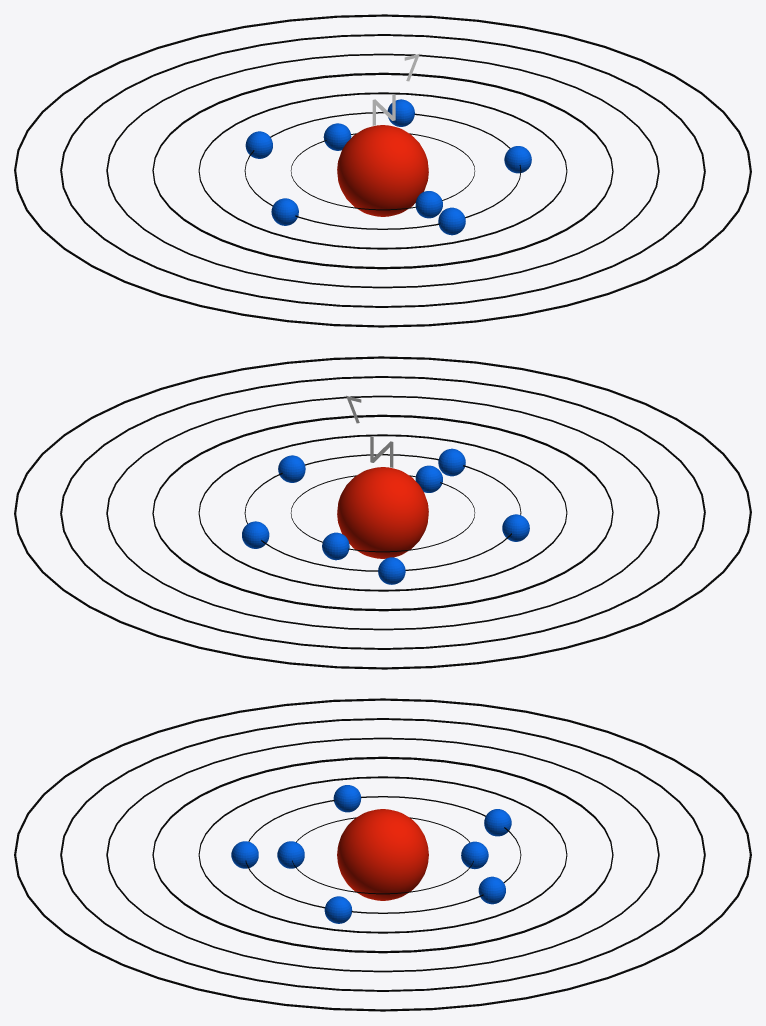
The picture shows the model from 3 angles, top to bottom: view 1: azimuth 30°, elevation 25°; view 2: azimuth 150°, elevation 25°; view 3: azimuth 270°, elevation 25°; orthographic projection.
Parts seen in each view (by area): view 1: Proton, n7, n6, N2, n5, n4, n3, N1, n2; view 2: Proton, n7, n6, N2, n5, n4, n3, N1, n2; view 3: Proton, n7, n6, N2, n5, n4, n3, N1, n2, n1.
Boxes of the visible parts, left/top/right/bottom form: Proton: left=337, top=125, right=428, bottom=216; n7: left=14, top=14, right=751, bottom=327; n6: left=60, top=34, right=705, bottom=307; N2: left=245, top=99, right=531, bottom=235; n5: left=106, top=53, right=659, bottom=288; n4: left=152, top=72, right=613, bottom=269; n3: left=198, top=92, right=567, bottom=249; N1: left=323, top=123, right=442, bottom=218; n2: left=244, top=112, right=521, bottom=229; Proton: left=337, top=467, right=428, bottom=558; n7: left=14, top=356, right=751, bottom=669; n6: left=60, top=376, right=705, bottom=649; N2: left=242, top=448, right=529, bottom=584; n5: left=106, top=395, right=659, bottom=630; n4: left=152, top=414, right=613, bottom=611; n3: left=198, top=434, right=567, bottom=591; N1: left=322, top=465, right=442, bottom=560; n2: left=244, top=454, right=521, bottom=571; Proton: left=337, top=809, right=428, bottom=900; n7: left=14, top=698, right=751, bottom=1011; n6: left=60, top=718, right=705, bottom=991; N2: left=231, top=785, right=511, bottom=923; n5: left=106, top=737, right=659, bottom=972; n4: left=152, top=756, right=613, bottom=953; n3: left=198, top=776, right=567, bottom=933; N1: left=277, top=841, right=488, bottom=869; n2: left=245, top=796, right=521, bottom=913; n1: left=292, top=817, right=473, bottom=894.
Bounding box in the file's own units: 802 × 180 × 802.
